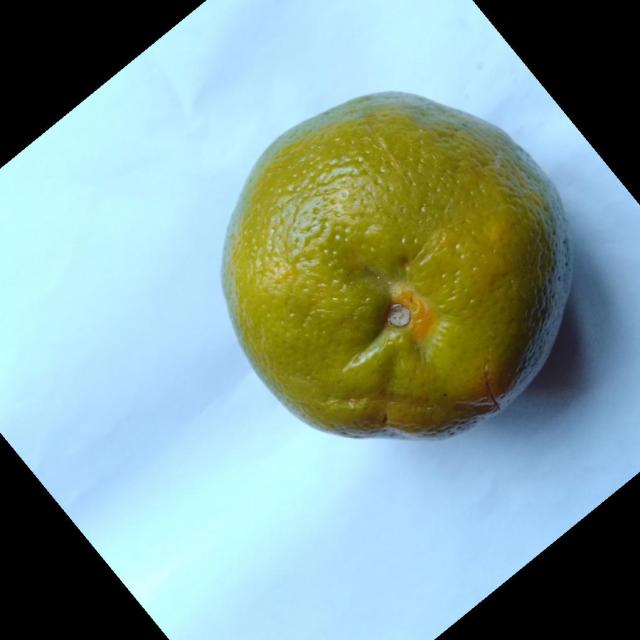fresh orange: (219, 88, 574, 442)
